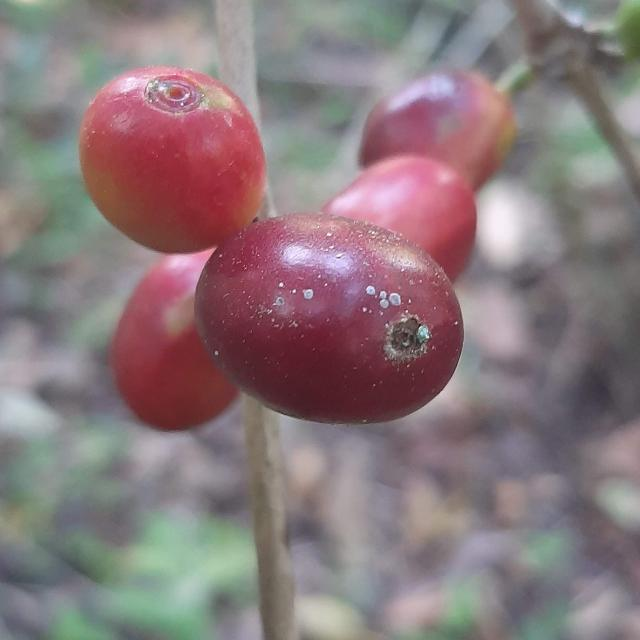red: (195, 213, 464, 424), (78, 65, 266, 253), (109, 250, 238, 431), (323, 154, 477, 280), (360, 69, 516, 190)
